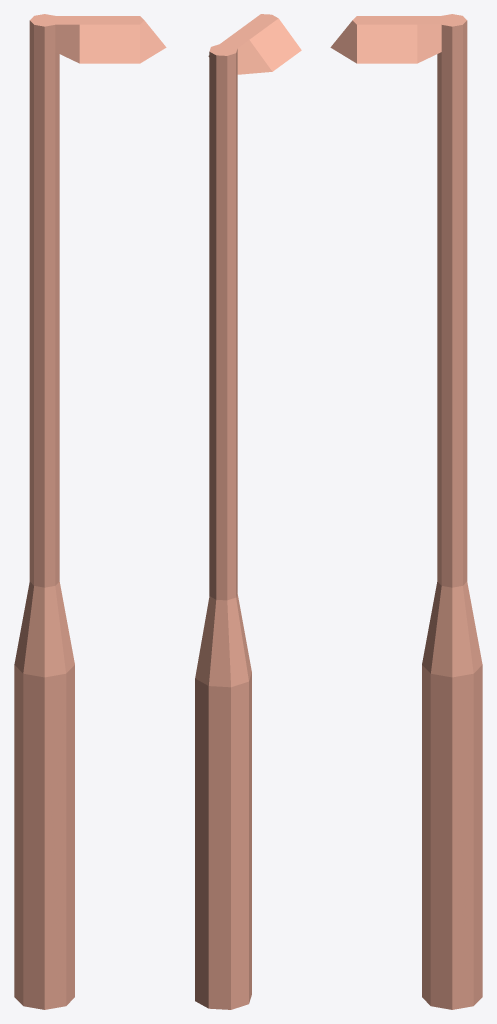
The model's file is lamppost.fbx.
3 renders of one model, left to right at view 1: azimuth 90°, elevation 25°; view 2: azimuth 150°, elevation 25°; view 3: azimuth 270°, elevation 25°, orthographic. The views are drawn at different scales.
Visible parts, largest first — view 1: lamp post; view 2: lamp post; view 3: lamp post.
Boxes of the visible parts, box(x1,y1,x2,y2) form: lamp post: box(14, 14, 166, 1009); lamp post: box(195, 14, 301, 1009); lamp post: box(330, 14, 482, 1009).
Size of the model in its own units: 41.65 by 588 by 82.96.
